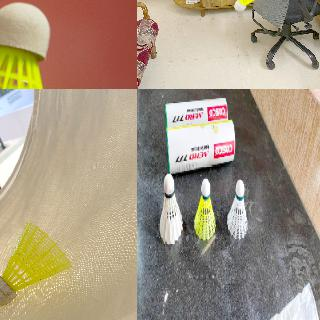15: (194, 178, 215, 239)
shuttlecock: (0, 222, 71, 306), (0, 2, 62, 88), (234, 0, 267, 12)
